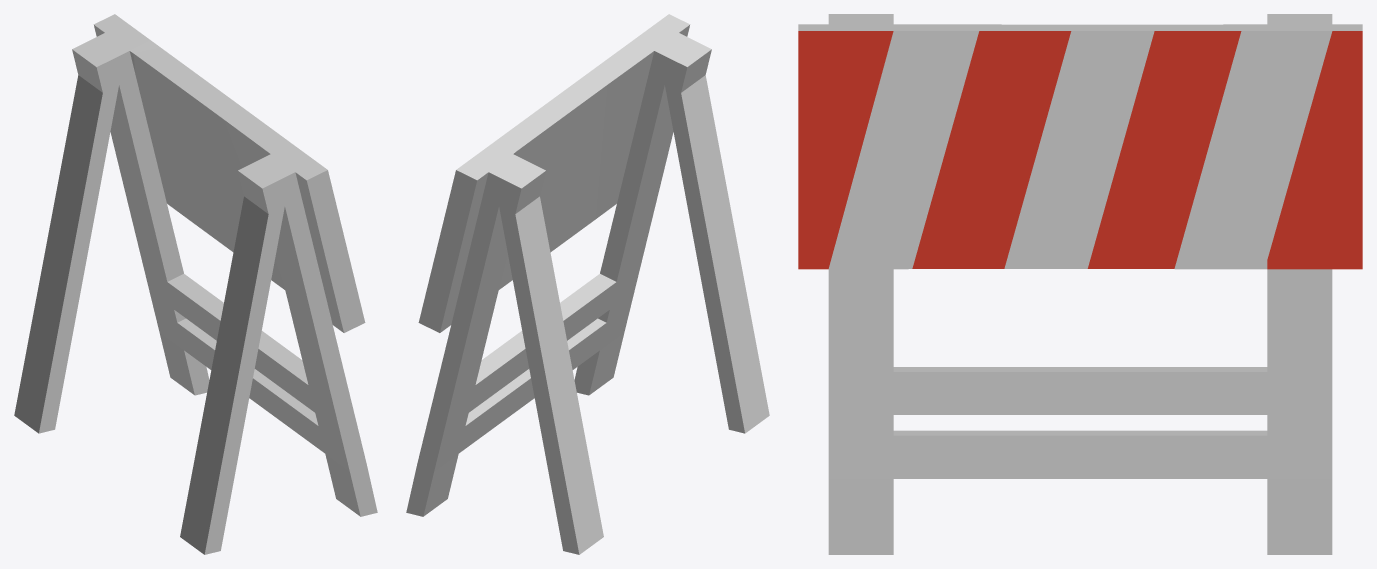
The picture shows the model from 3 angles, left to right: view 1: azimuth 30°, elevation 25°; view 2: azimuth 150°, elevation 25°; view 3: azimuth 270°, elevation 25°; orthographic projection. The views are drawn at different scales.
Visible parts, largest first — view 1: WarningSign_7; view 2: WarningSign_7; view 3: WarningSign_7.
Boxes of the visible parts, bbox=[...] form: WarningSign_7: bbox=[14, 14, 377, 554]; WarningSign_7: bbox=[406, 14, 769, 554]; WarningSign_7: bbox=[798, 14, 1362, 554].
Size of the model in its own units: 1.27 by 2.57 by 2.71.
